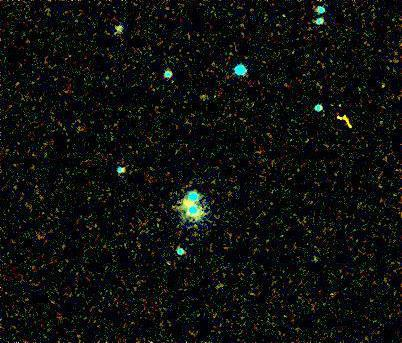star: (169, 188, 199, 218)
